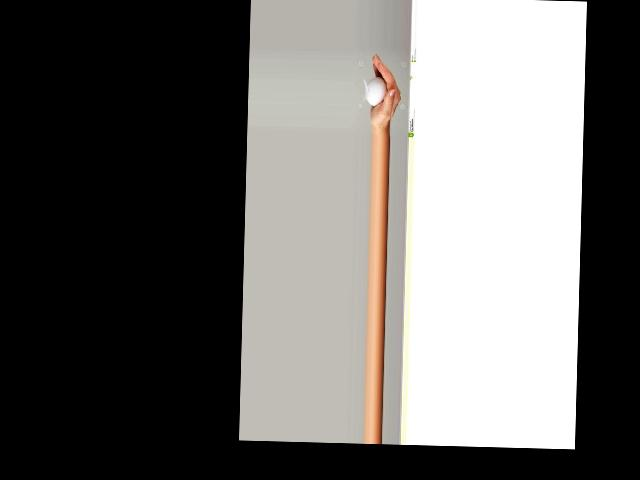egg: (366, 76, 387, 106)
